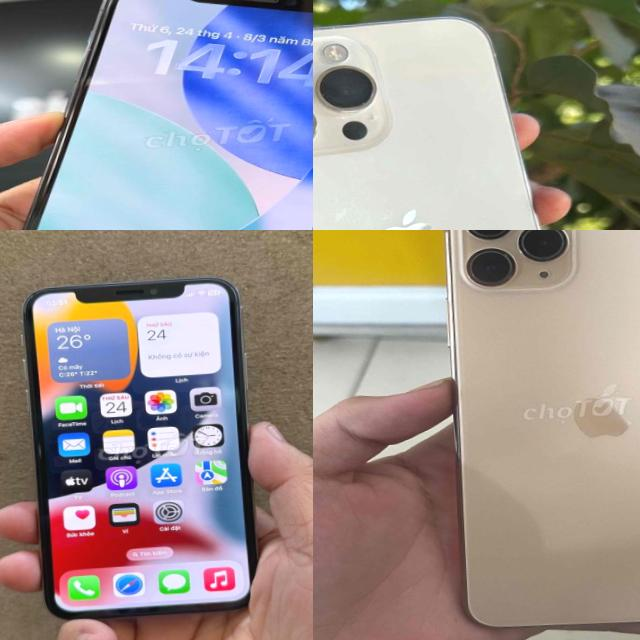gen_11: (446, 230, 640, 627)
gen_12_13: (0, 0, 313, 230)
gen_14: (313, 0, 594, 230)
gen_x_xs: (19, 274, 264, 622)
